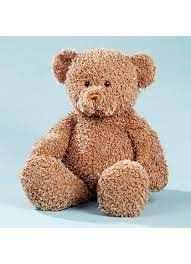teddy: (18, 44, 178, 223)
